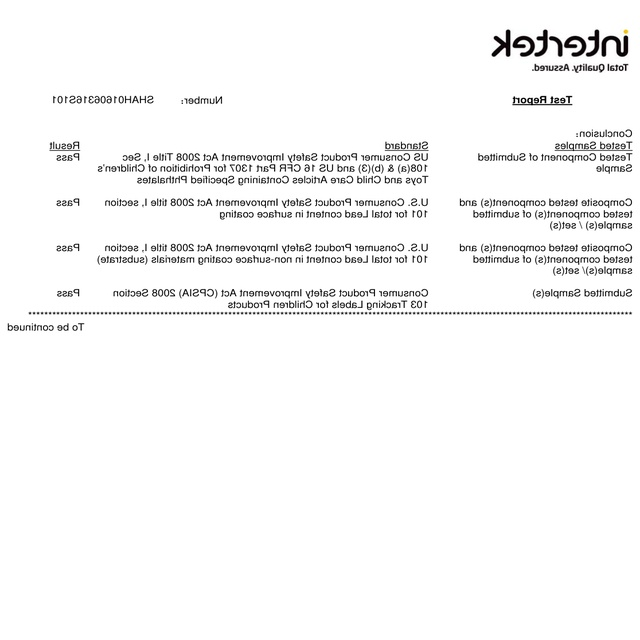intertek: (487, 26, 632, 58)
